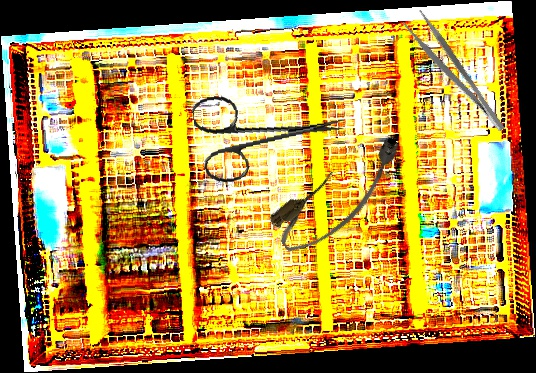Cannula: (264, 127, 418, 263)
Dressing Forceps: (400, 7, 509, 142)
Iris Scissors: (190, 79, 351, 186)
